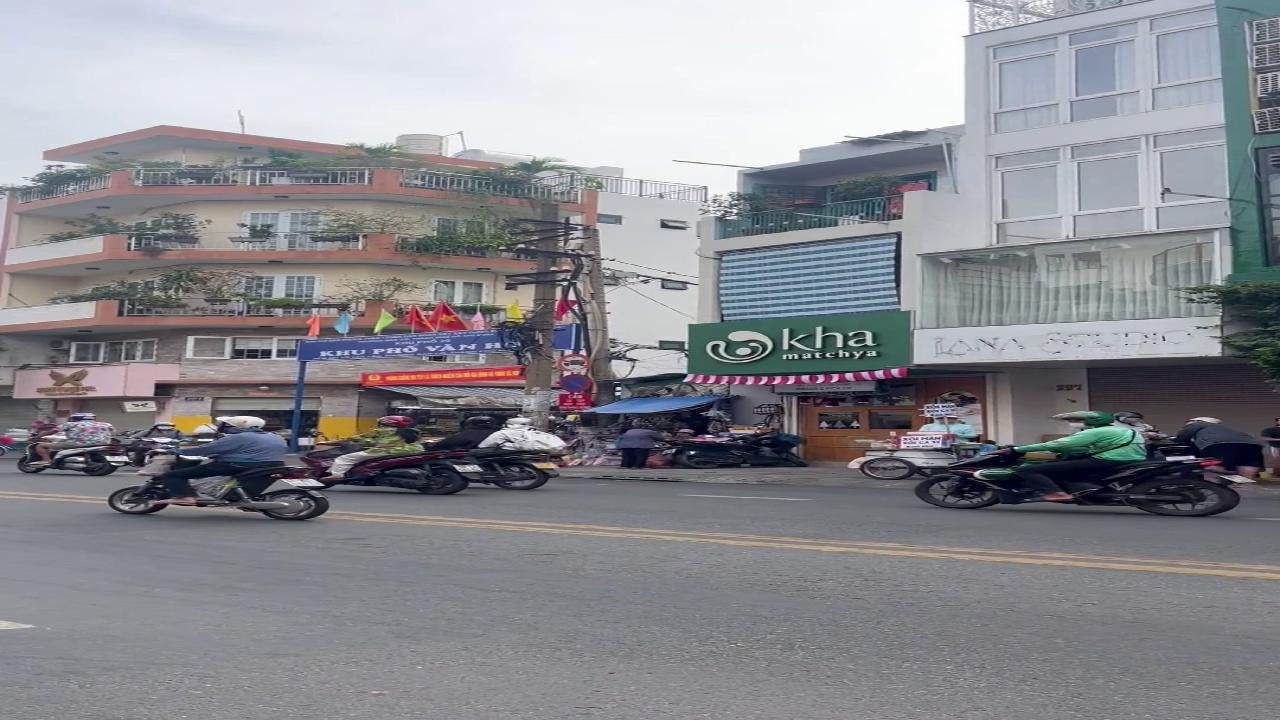Helmet: (997, 410, 1146, 501), (156, 416, 287, 504), (328, 415, 421, 477), (33, 413, 115, 464), (431, 415, 501, 449)
Motor: (1058, 456, 1253, 516), (300, 444, 481, 494), (193, 466, 329, 520), (666, 433, 807, 468), (16, 435, 129, 475), (467, 448, 559, 489), (126, 437, 180, 466)
